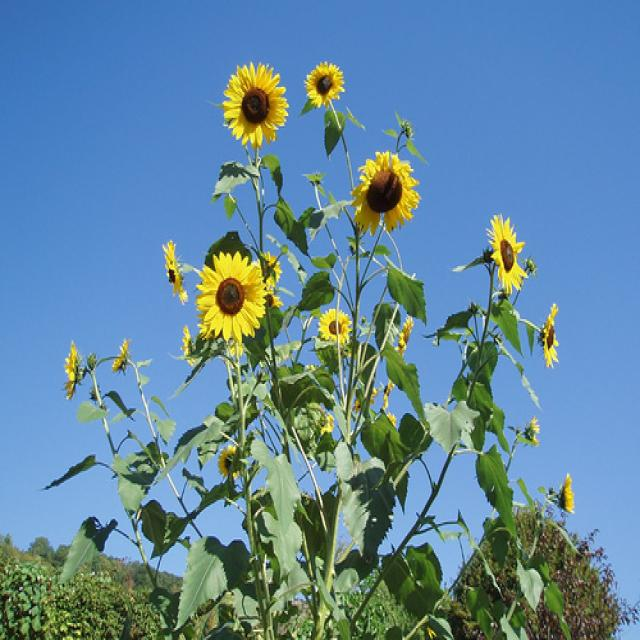sunflower: (221, 60, 287, 144), (301, 56, 341, 100)
